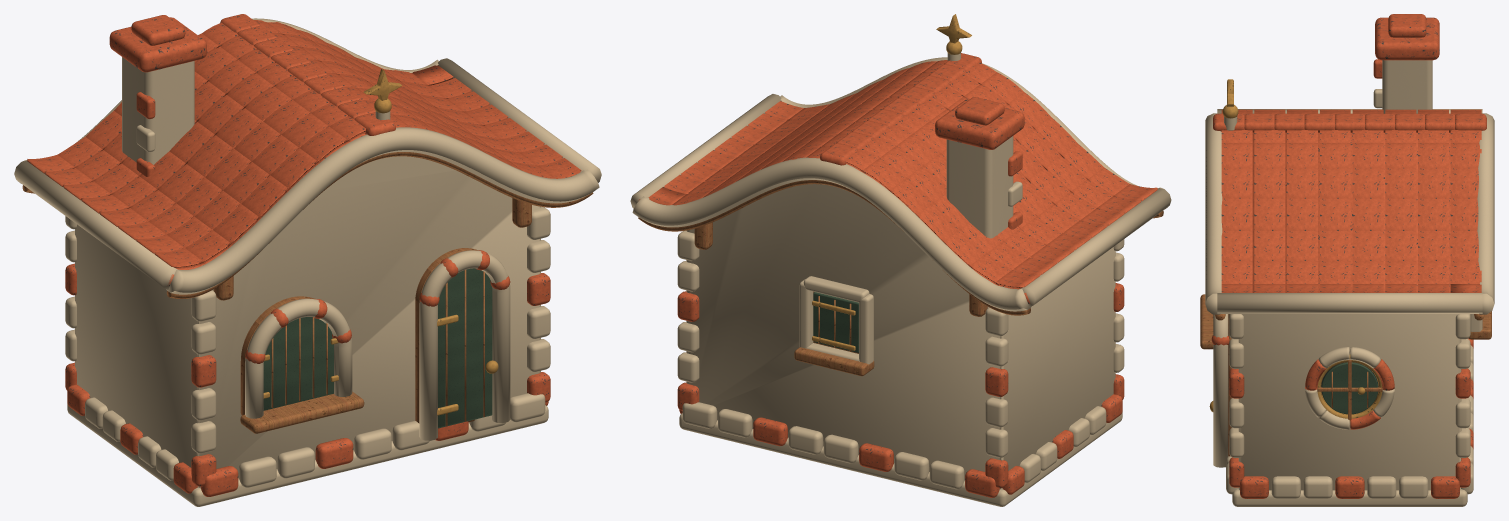
The model's file is B6_瓦房_分享包版.glb.
3 renders of one model, left to right at view 1: azimuth 30°, elevation 25°; view 2: azimuth 150°, elevation 25°; view 3: azimuth 270°, elevation 25°, orthographic. The views are drawn at different scales.
Parts seen in each view (by area): view 1: Closed cottage shell, Sculpted ivory eave, Inset door, Rounded sandstone arch, Ivory chimney, Inset window, Stone foundation, Side roof closed lip, Rounded sandstone arch.001, Coral chimney cap, Side roof closed lip.001, Timber window sill (+55 smaller); view 2: Closed cottage shell, Sculpted ivory eave.001, Ivory chimney, Stone foundation, Side roof closed lip, Coral chimney cap, Side roof closed lip.001, Inset square shutter, Oak eave underside.001, Sculpted ivory eave, Square window sill, Chimney crown (+43 smaller); view 3: Closed cottage shell, Side roof closed lip.001, Sculpted ivory eave, Sculpted ivory eave.001, Continuous closed curved roof, Ivory chimney, Stone foundation, Rounded sandstone arch, Coral chimney cap, Round shutter, Overlapping rounded roof tile.081, Overlapping rounded roof tile.084 (+86 smaller).
Boxes of the visible parts, x1,y1,x2,y2 form: Closed cottage shell: [75, 156, 540, 487]; Sculpted ivory eave: [166, 127, 599, 294]; Inset door: [438, 268, 492, 428]; Rounded sandstone arch: [419, 250, 510, 440]; Ivory chimney: [122, 57, 194, 164]; Inset window: [263, 317, 333, 410]; Stone foundation: [67, 404, 548, 506]; Side roof closed lip: [14, 160, 177, 289]; Rounded sandstone arch.001: [245, 298, 352, 418]; Coral chimney cap: [109, 17, 206, 72]; Side roof closed lip.001: [438, 58, 601, 182]; Timber window sill: [240, 391, 364, 433]; Closed cottage shell: [686, 184, 1115, 489]; Sculpted ivory eave.001: [632, 157, 1031, 311]; Ivory chimney: [946, 136, 1013, 238]; Stone foundation: [679, 412, 1122, 506]; Side roof closed lip: [1021, 188, 1171, 306]; Coral chimney cap: [935, 99, 1024, 149]; Side roof closed lip.001: [630, 94, 781, 208]; Inset square shutter: [813, 292, 858, 352]; Oak eave underside.001: [638, 180, 1030, 315]; Sculpted ivory eave: [780, 57, 1167, 208]; Square window sill: [794, 347, 874, 376]; Chimney crown: [955, 97, 1004, 125]; Closed cottage shell: [1238, 314, 1461, 490]; Side roof closed lip.001: [1217, 293, 1482, 313]; Sculpted ivory eave: [1205, 113, 1222, 314]; Sculpted ivory eave.001: [1477, 113, 1494, 314]; Continuous closed curved roof: [1252, 133, 1450, 292]; Ivory chimney: [1382, 60, 1432, 113]; Stone foundation: [1232, 489, 1467, 506]; Rounded sandstone arch: [1213, 314, 1228, 467]; Coral chimney cap: [1375, 17, 1439, 60]; Round shutter: [1321, 362, 1377, 414]; Overlapping rounded roof tile.081: [1254, 198, 1285, 230]; Overlapping rounded roof tile.084: [1352, 198, 1383, 230].
Size of the model in its own units: 5.16 by 4.48 by 3.32.
6 materials, 6 textured.
